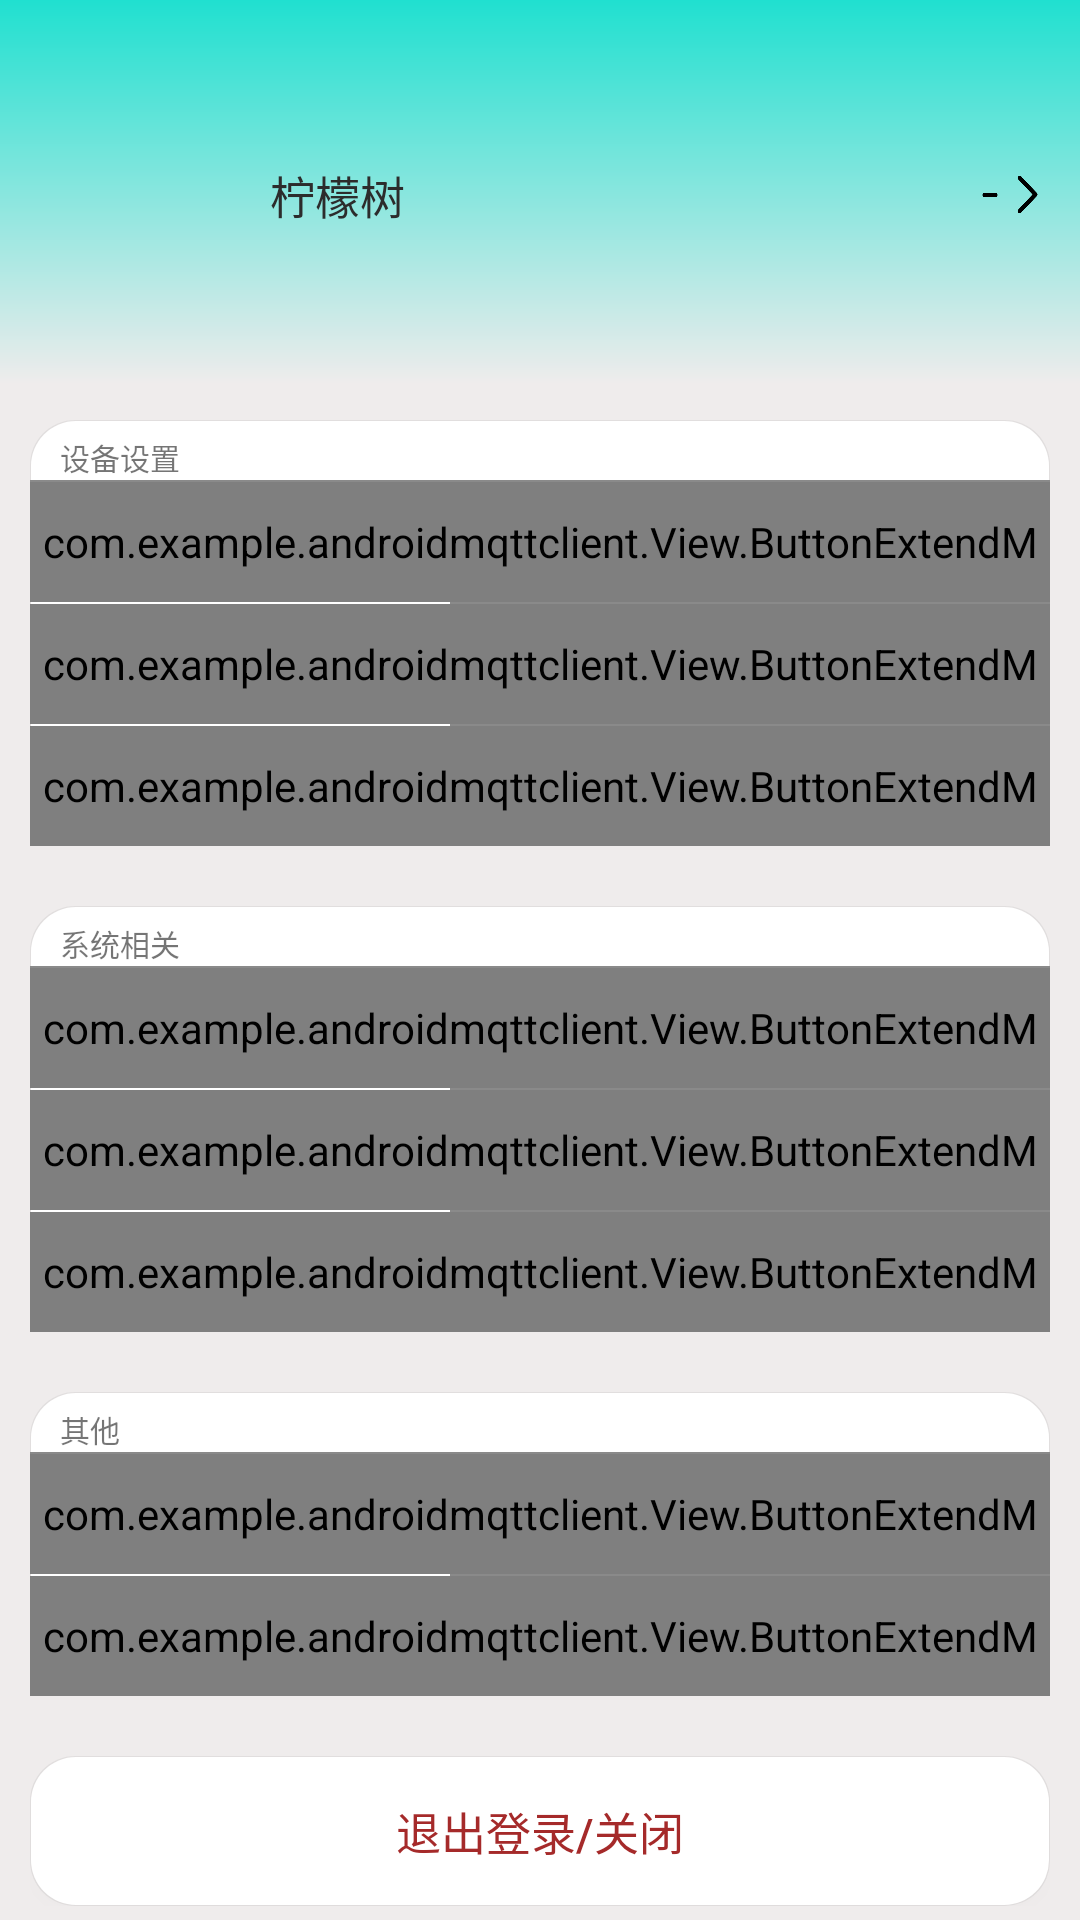

Named icons in this screenshot (1080 × 1920) and their centers, (x=x, y=y):
list arrow: (x=1027, y=196)
